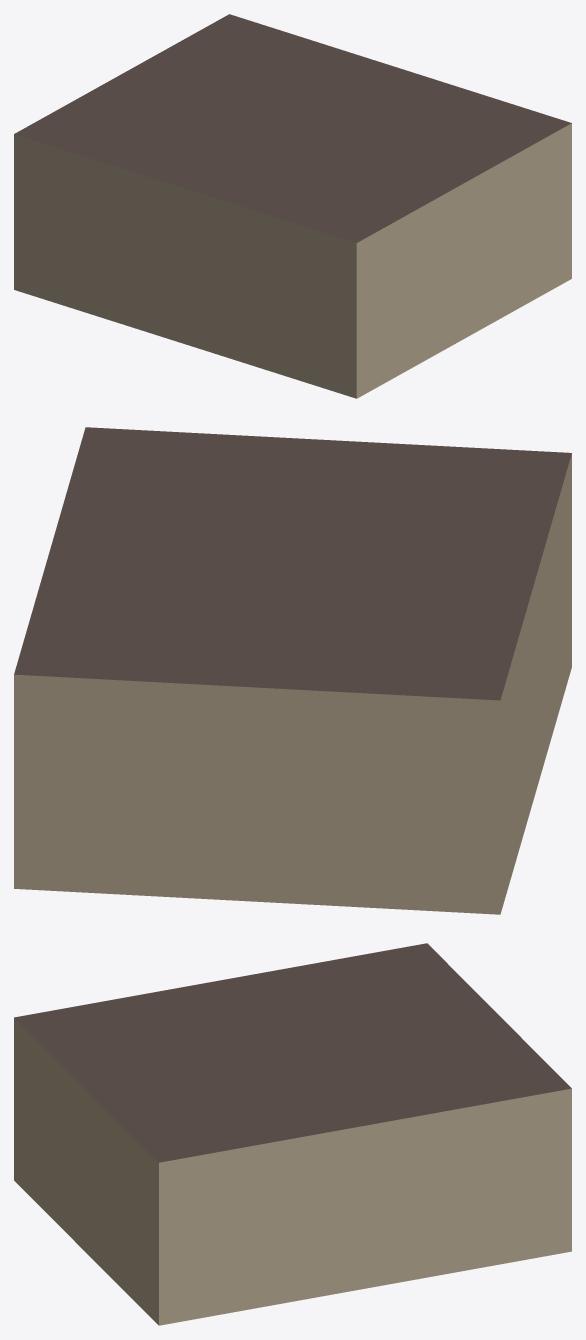
3 views of the same model, one above another, from view 1: azimuth 30°, elevation 25°; view 2: azimuth 150°, elevation 25°; view 3: azimuth 270°, elevation 25° (orthographic). The views are drawn at different scales.
Visible parts, largest first — view 1: HP-w859457456; view 2: HP-w859457456; view 3: HP-w859457456.
Part boxes in pixels (bbox=[...]): HP-w859457456: bbox=[14, 14, 571, 398]; HP-w859457456: bbox=[14, 427, 571, 914]; HP-w859457456: bbox=[14, 943, 571, 1325].
Size of the model in its own units: 25.99 by 9 by 27.92.
